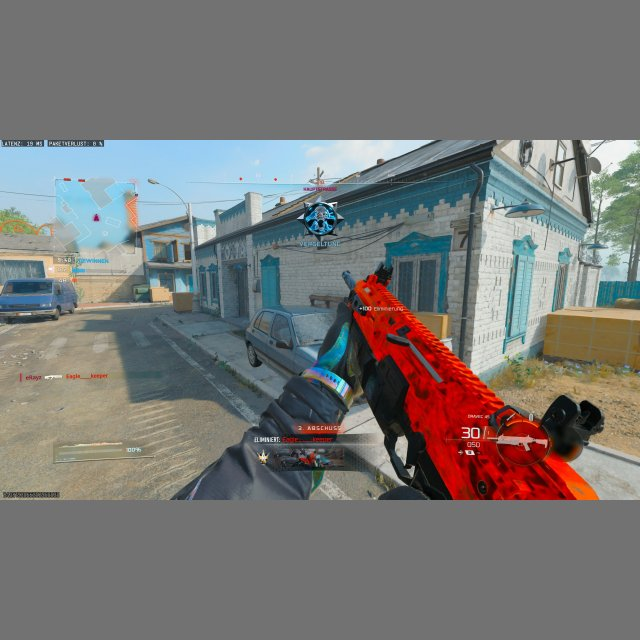player: (301, 200, 344, 240)
